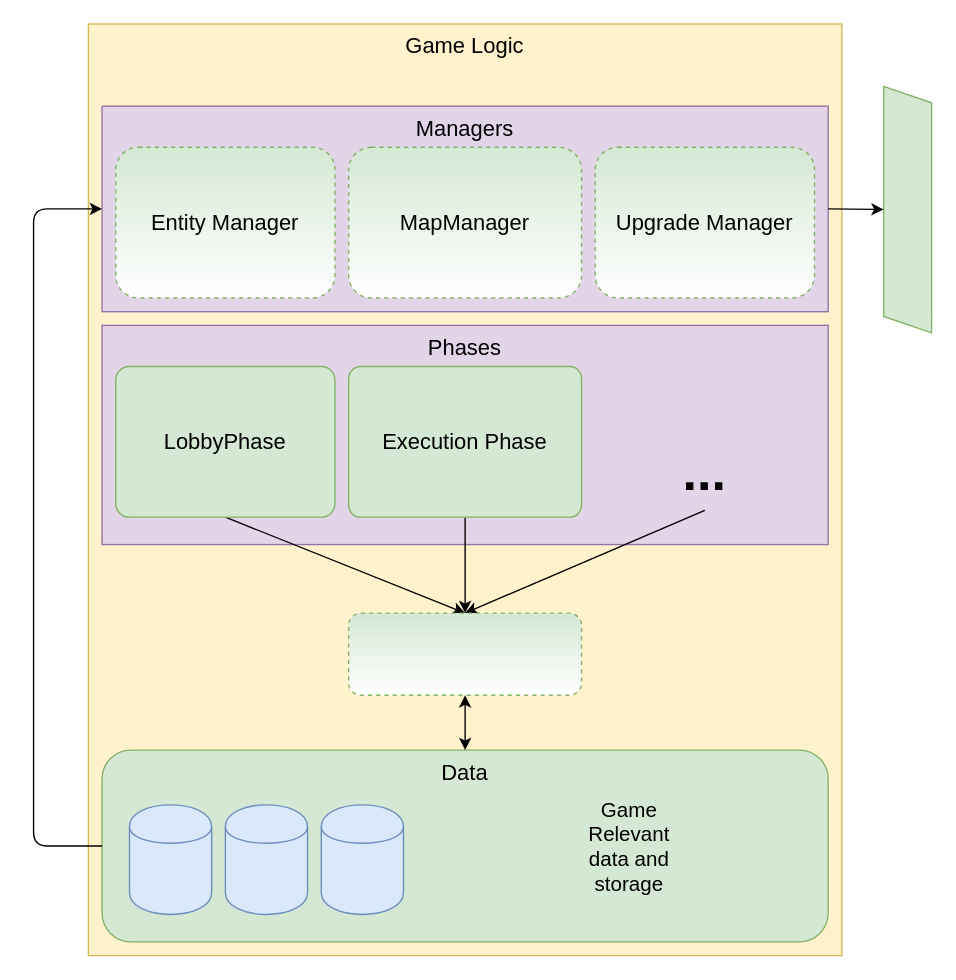
The diagram is 956 pixels wide and 980 high, and some of its shapes have lost their labels. Here are the shapes that lost their labels. From the top down, the centre of each, then its label:
At [907,209]: "Implementations".
At [464,653]: "PhaseBaseModule".
